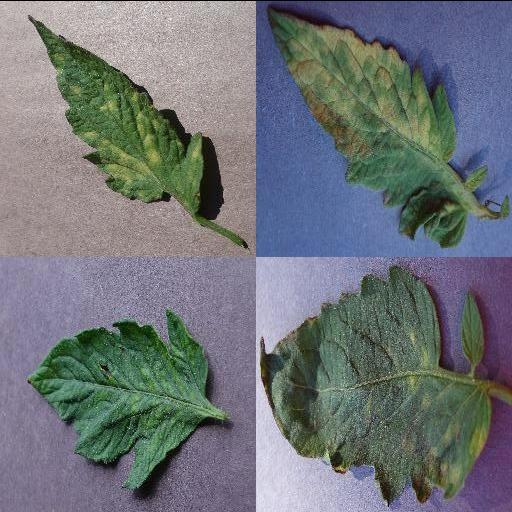Leaf Mold: (258, 265, 492, 504), (267, 5, 463, 247), (27, 15, 205, 217)
Mosaic Virus: (25, 307, 209, 489)
